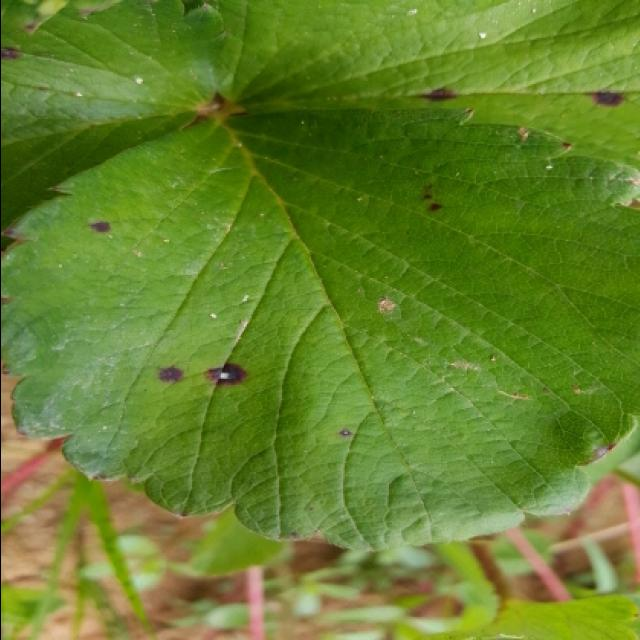Leaf Spot: (2, 106, 640, 554), (210, 0, 640, 170), (2, 0, 222, 232)
